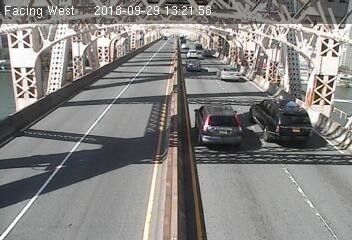car: (248, 97, 318, 151), (190, 102, 245, 151), (217, 65, 244, 81), (183, 58, 202, 74), (186, 49, 198, 57)
